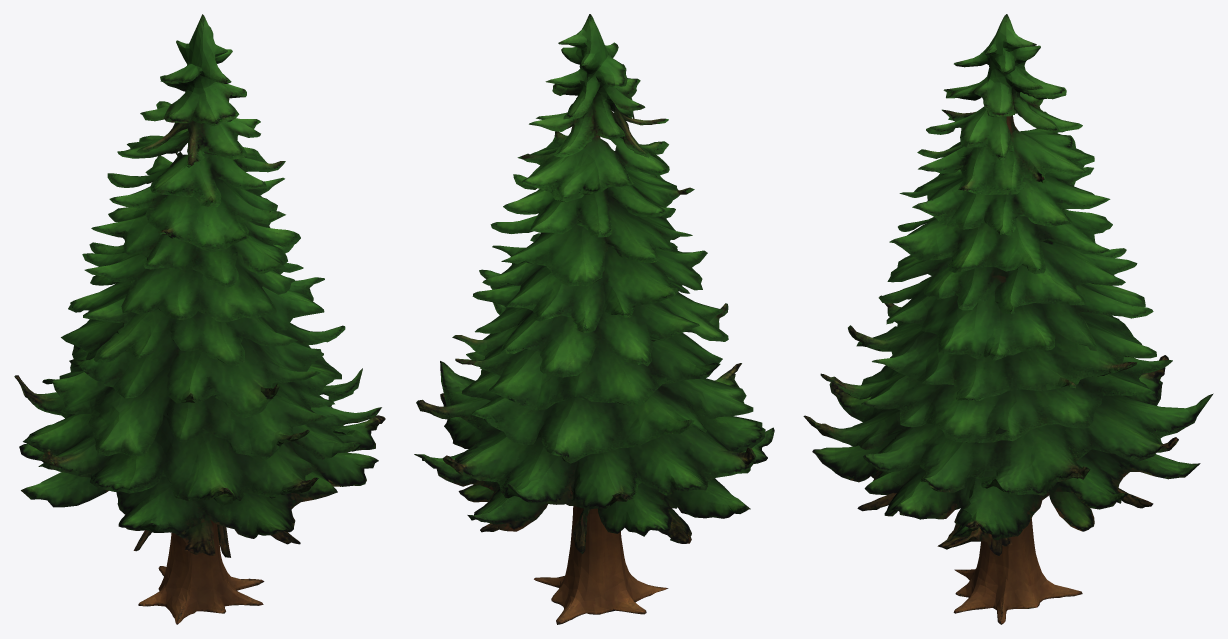
The model's file is tree.glb.
3 views of the same model, side by side, from view 1: azimuth 30°, elevation 25°; view 2: azimuth 150°, elevation 25°; view 3: azimuth 270°, elevation 25° (orthographic).
Parts seen in each view (by area): view 1: geometry_0; view 2: geometry_0; view 3: geometry_0.
Part boxes in pixels (<box>): geometry_0: <box>14,14,385,624</box>; geometry_0: <box>414,14,774,624</box>; geometry_0: <box>803,14,1213,624</box>.
Size of the model in its own units: 0.6062 by 1 by 0.6388.
1 material, 1 textured.
